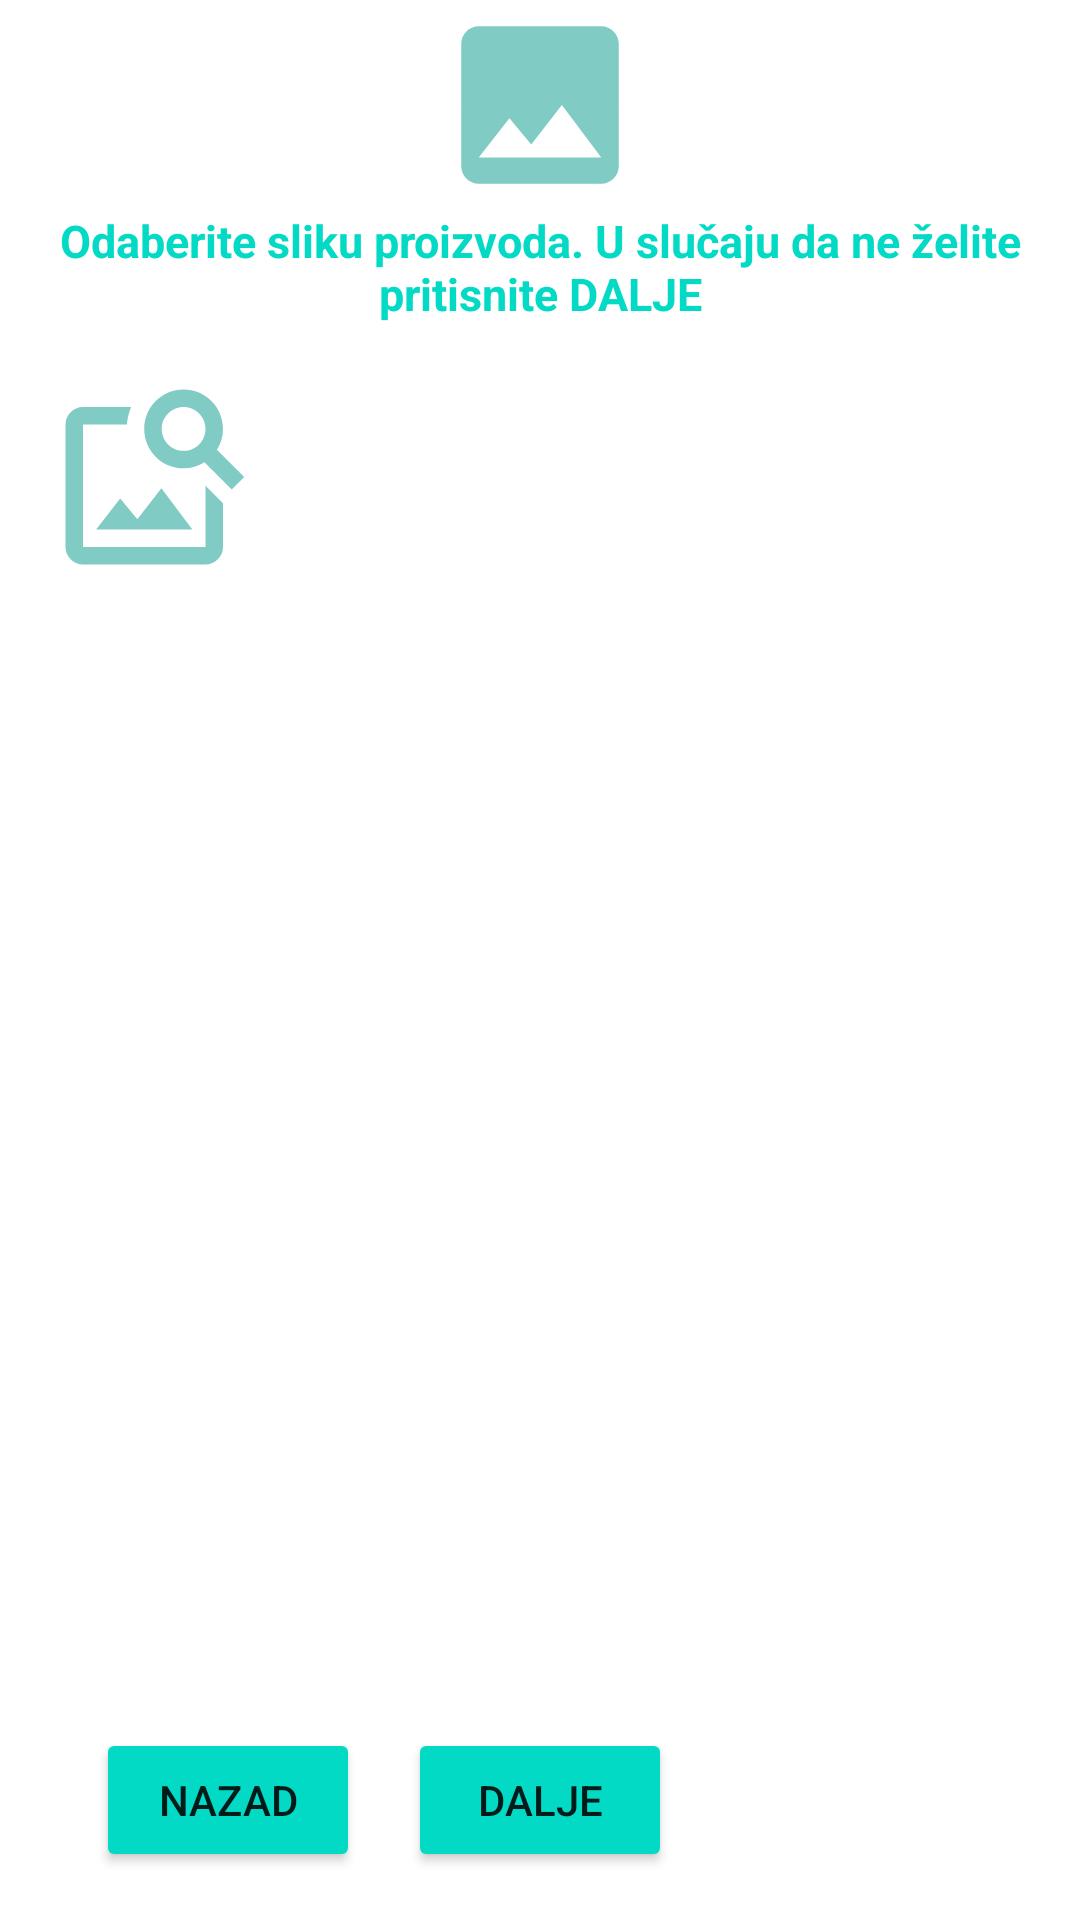

Where to tap for icons on this 1080*1920 app screen, as (x=x, y=y):
search: (x=154, y=477)
